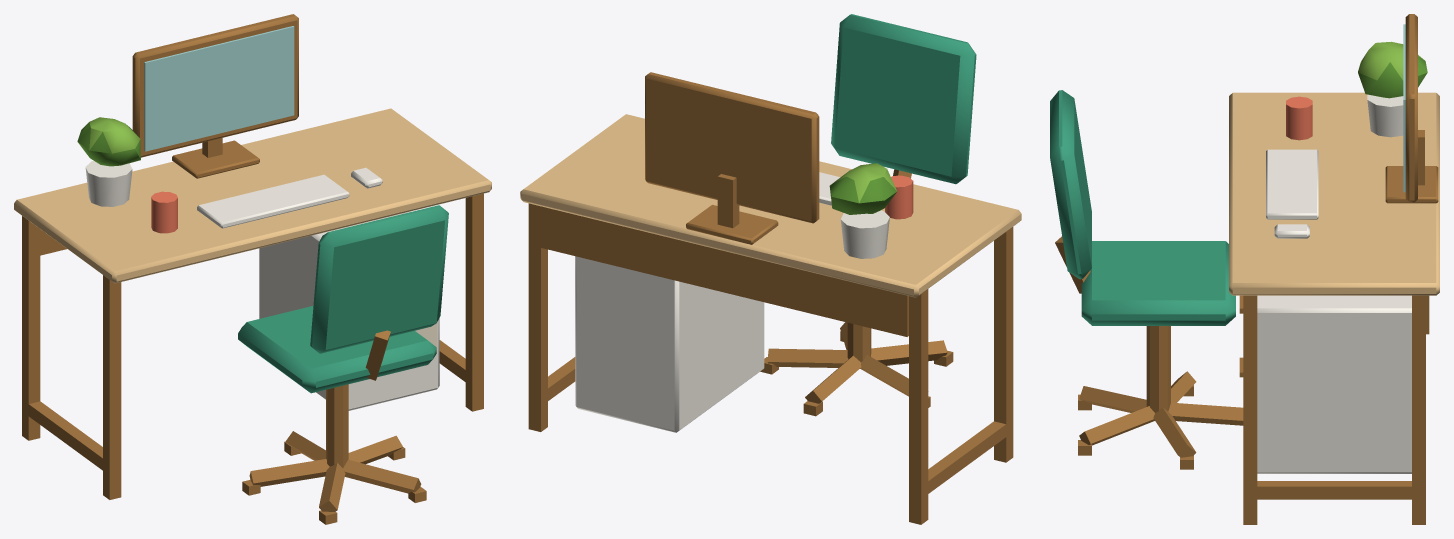
Rendered from desk_v2.glb.
3 views of the same model, side by side, from view 1: azimuth 30°, elevation 25°; view 2: azimuth 150°, elevation 25°; view 3: azimuth 270°, elevation 25° (orthographic). The views are drawn at different scales.
Parts seen in each view (by area): view 1: body, screen; view 2: body; view 3: body, screen.
Part boxes in pixels (x1,y1,x2,y2): body: (14, 14, 491, 524); screen: (144, 26, 294, 151); body: (520, 14, 1021, 524); body: (1050, 14, 1439, 524); screen: (1403, 24, 1405, 192).
Bounding box in the file's own units: 1.3 × 1.18 × 1.11.
